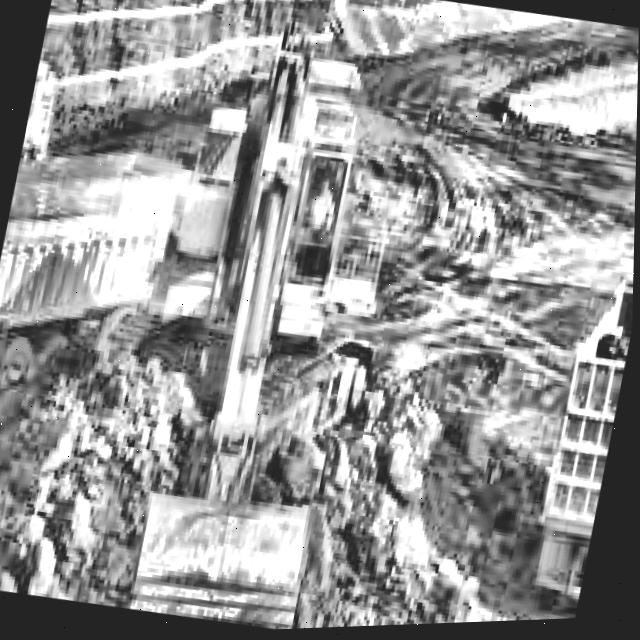dump_truck: (0, 112, 201, 372), (519, 261, 635, 625)
excavator: (93, 6, 432, 637)
